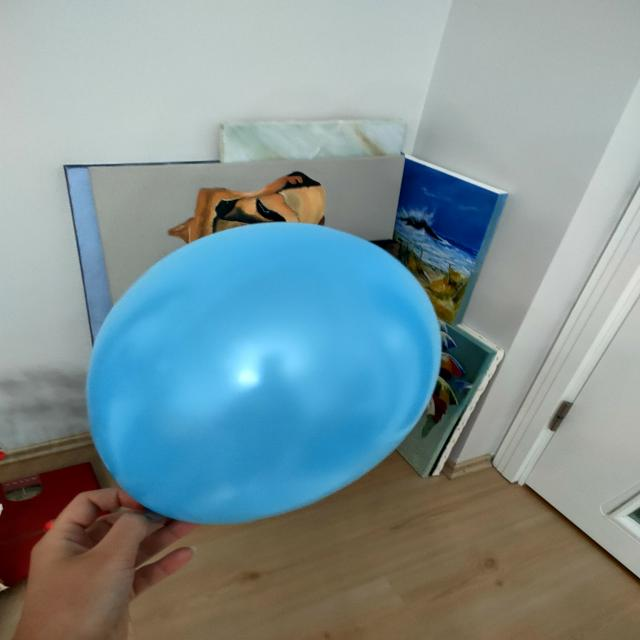blue: (88, 222, 442, 527)
